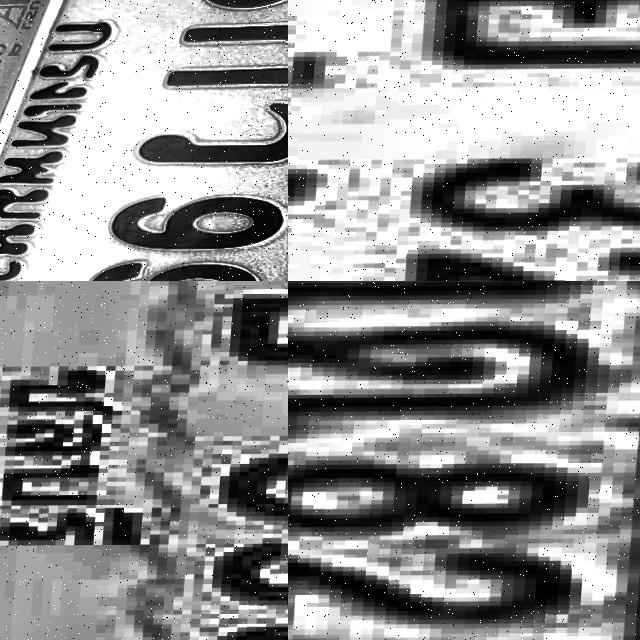license-plate: (288, 281, 640, 640), (0, 281, 288, 640), (288, 0, 640, 281), (0, 0, 288, 281)
